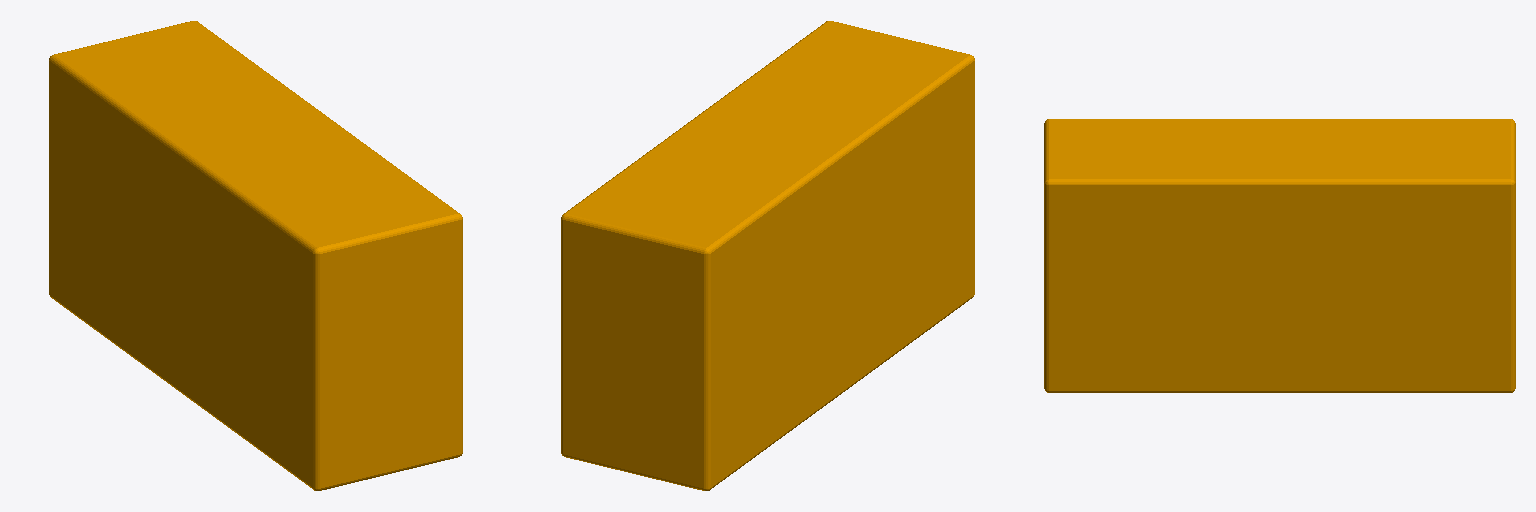
URDF robot description (salt):
<?xml version="1.0"?>
<robot name="salt">
  <link name="salt">
    <visual>
      <origin xyz="0.0 0.0 0.0" rpy="0.0 1.5708 0.0"/>
      <geometry>
        <mesh filename="salt.obj" scale="0.03 0.03 0.03"/>
      </geometry>
    </visual>
    <collision>
      <origin xyz="0.0 0.0 0.0" rpy="0.0 1.5708 0.0"/>
      <geometry>
        <mesh filename="salt.obj" scale="0.03 0.03 0.03"/>
      </geometry>
    </collision>
    <inertial>
      <mass value="0.5"/>
      <inertia ixx="0.0001" ixy="0.0" ixz="0.0" iyy="0.0001" iyz="0.0" izz="0.0001"/>
    </inertial>
  </link>
</robot>

--- Facts derived from the render (not from the file) ---
The picture shows the robot from 3 angles, left to right: view 1: azimuth 30°, elevation 25°; view 2: azimuth 150°, elevation 25°; view 3: azimuth 270°, elevation 25°; orthographic projection.
Model salt with 1 links and 0 joints (none), rooted at salt, posed all joints at 0.
Links seen in each view (by area): view 1: salt; view 2: salt; view 3: salt.
Link boxes in pixels (bbox=[...]): salt: bbox=[49, 21, 462, 490]; salt: bbox=[561, 21, 974, 490]; salt: bbox=[1044, 119, 1515, 392].
Bounding box of the posed robot: 0.0531 × 0.1654 × 0.0827 m (x, y, z).
Meshes: 1 distinct files referenced, 1 mesh visuals loaded (1 OBJ).